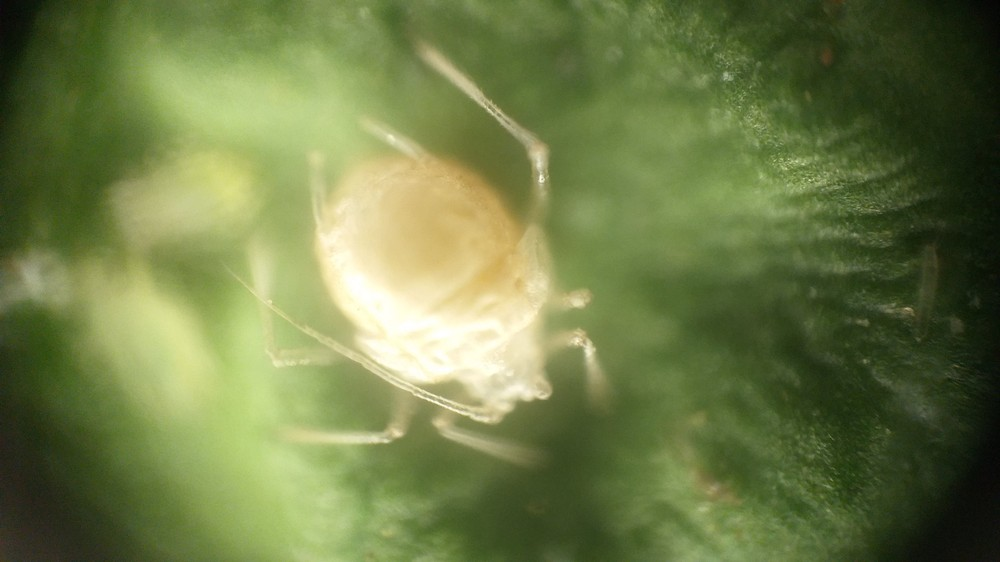Pulgon: (219, 44, 656, 494)
